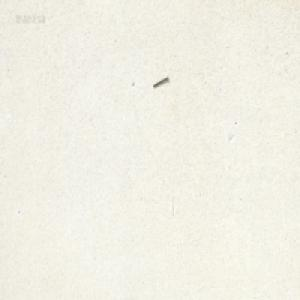Bolt: (152, 75, 168, 87)
